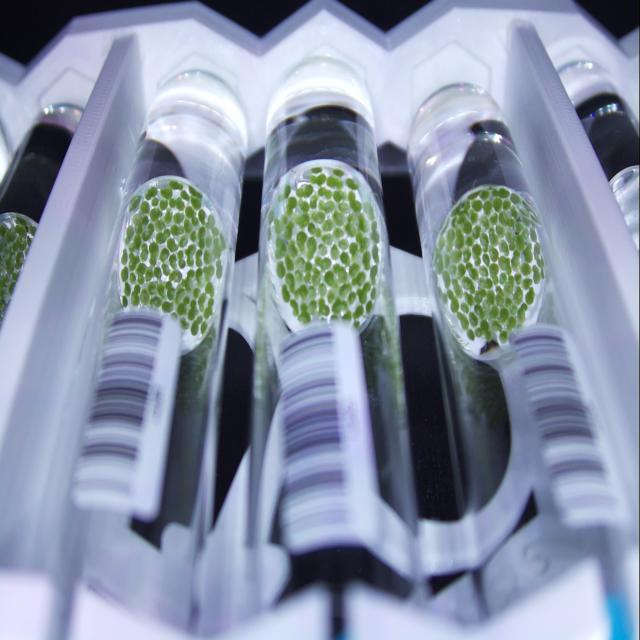Lemna-Gibba: (515, 233, 532, 262), (534, 243, 545, 279), (190, 317, 208, 337), (499, 207, 516, 228), (132, 213, 148, 235), (476, 320, 492, 340), (355, 230, 370, 251), (345, 213, 358, 237), (348, 190, 362, 212), (332, 300, 349, 317), (449, 200, 466, 217), (466, 264, 482, 282), (181, 270, 195, 290), (176, 295, 190, 315), (298, 232, 312, 252), (356, 212, 369, 233), (500, 257, 514, 276), (275, 238, 286, 262), (448, 290, 459, 314), (141, 222, 154, 242), (359, 284, 372, 304), (296, 183, 314, 197), (274, 215, 288, 233), (299, 304, 311, 325), (452, 210, 466, 228), (149, 242, 159, 266), (185, 243, 195, 267), (326, 175, 342, 190), (324, 270, 338, 287), (294, 255, 305, 276), (370, 220, 380, 243), (332, 312, 351, 324), (286, 240, 298, 259), (155, 228, 170, 243), (295, 213, 310, 228), (351, 270, 366, 285), (315, 257, 331, 271), (211, 237, 222, 257), (308, 237, 318, 259), (489, 264, 500, 284), (286, 197, 298, 215), (156, 282, 166, 303), (294, 287, 308, 302), (518, 304, 528, 325), (491, 187, 510, 198), (128, 195, 141, 211), (169, 197, 185, 210), (319, 200, 335, 213), (339, 282, 351, 299), (204, 299, 214, 319), (511, 250, 521, 270), (512, 285, 522, 305), (129, 252, 140, 270), (458, 312, 469, 330), (321, 218, 335, 232), (461, 279, 475, 293), (189, 185, 202, 200), (311, 210, 326, 223), (308, 222, 321, 237), (352, 305, 365, 320), (310, 173, 326, 185), (479, 233, 489, 252), (472, 243, 482, 262), (131, 284, 140, 305), (160, 187, 174, 200), (202, 265, 215, 279), (331, 227, 345, 240), (448, 228, 461, 242), (125, 225, 135, 243), (362, 250, 371, 270), (338, 267, 348, 285), (318, 299, 330, 314), (305, 262, 315, 280), (285, 274, 295, 292), (489, 227, 498, 247), (452, 279, 462, 297), (495, 287, 505, 305), (525, 287, 535, 305), (461, 248, 471, 265), (441, 270, 451, 287), (145, 187, 158, 200), (149, 207, 162, 220), (166, 237, 179, 250), (170, 223, 184, 235), (198, 227, 206, 248), (332, 190, 346, 202), (470, 198, 482, 212), (488, 305, 500, 319), (140, 242, 149, 260), (285, 220, 294, 238), (311, 269, 320, 287), (276, 260, 285, 278), (290, 299, 299, 317), (455, 230, 464, 248), (532, 265, 541, 283), (175, 287, 185, 303), (140, 289, 150, 305), (372, 245, 380, 265), (504, 277, 514, 293), (129, 235, 141, 248), (161, 300, 174, 312), (346, 178, 359, 190), (474, 289, 486, 302), (479, 277, 492, 289), (318, 187, 332, 198), (510, 192, 524, 203), (435, 252, 442, 274), (370, 265, 378, 284), (140, 200, 150, 215), (169, 180, 184, 190), (438, 289, 448, 304), (169, 270, 181, 282), (190, 299, 198, 317), (320, 233, 332, 245), (282, 284, 290, 302), (501, 309, 510, 325), (191, 195, 202, 208), (149, 295, 160, 308), (349, 262, 360, 275), (461, 220, 472, 233), (521, 264, 532, 277), (488, 247, 499, 260), (204, 250, 214, 264), (138, 264, 145, 284), (144, 267, 154, 281), (199, 292, 206, 312), (308, 300, 318, 314), (518, 215, 532, 225), (478, 305, 488, 319), (196, 272, 205, 287), (350, 242, 359, 257), (285, 255, 294, 270), (482, 200, 491, 215), (510, 205, 519, 220), (480, 215, 489, 230), (446, 235, 455, 250), (486, 290, 495, 305), (178, 250, 185, 269), (210, 222, 221, 234), (155, 220, 166, 232), (299, 200, 310, 212), (334, 212, 346, 223), (338, 238, 349, 250), (450, 250, 461, 262), (462, 294, 474, 305), (159, 247, 169, 260), (152, 267, 162, 280), (205, 282, 215, 295), (340, 252, 350, 265), (471, 225, 481, 238), (499, 242, 509, 255), (184, 217, 192, 233), (179, 233, 188, 247), (168, 282, 175, 300), (470, 312, 479, 326), (121, 267, 129, 282), (284, 183, 292, 198), (310, 193, 318, 208), (318, 243, 328, 255), (479, 265, 489, 277), (508, 317, 516, 332), (121, 248, 128, 265), (508, 232, 515, 249), (206, 215, 215, 228), (331, 168, 344, 177), (319, 284, 328, 297), (196, 248, 202, 267), (198, 208, 206, 222), (200, 320, 208, 334), (174, 212, 184, 223), (185, 207, 195, 218), (468, 190, 479, 200), (161, 264, 170, 276), (180, 317, 189, 329), (365, 203, 374, 215), (460, 302, 469, 314), (165, 208, 172, 223), (192, 284, 199, 299), (124, 282, 131, 297), (148, 282, 156, 295), (170, 255, 178, 268), (348, 292, 356, 305), (328, 289, 336, 302), (482, 254, 490, 267), (458, 264, 466, 277), (216, 260, 222, 277), (180, 190, 190, 200), (339, 202, 349, 212), (492, 324, 502, 334), (495, 225, 504, 236), (530, 232, 539, 243), (449, 264, 458, 275), (509, 304, 518, 315), (190, 230, 198, 242), (309, 287, 316, 300), (514, 272, 521, 285), (159, 200, 168, 210), (330, 247, 339, 257), (129, 272, 136, 284), (121, 295, 128, 307), (365, 302, 372, 314), (490, 218, 499, 227), (151, 197, 159, 207), (191, 217, 201, 225), (479, 192, 489, 200), (491, 198, 499, 208), (464, 235, 472, 245), (438, 237, 444, 250), (515, 222, 522, 233), (521, 280, 532, 287), (500, 335, 508, 344), (205, 237, 212, 247), (314, 227, 321, 237), (311, 167, 322, 173), (468, 329, 474, 340), (506, 302, 515, 309), (502, 202, 512, 208), (444, 255, 450, 265), (371, 289, 376, 300), (268, 210, 272, 223), (470, 215, 476, 223), (268, 225, 271, 239), (354, 320, 360, 327), (220, 238, 225, 246), (279, 193, 284, 201), (334, 264, 340, 269), (488, 207, 491, 213), (489, 280, 492, 285)
